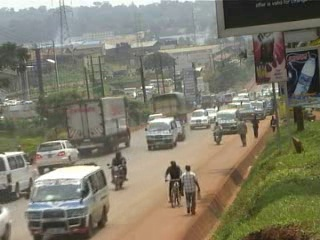Car: (31, 137, 81, 173), (0, 201, 19, 238), (188, 106, 210, 130), (172, 121, 184, 142), (206, 104, 217, 122)
Motorcycle: (106, 147, 129, 190), (211, 120, 224, 146)
